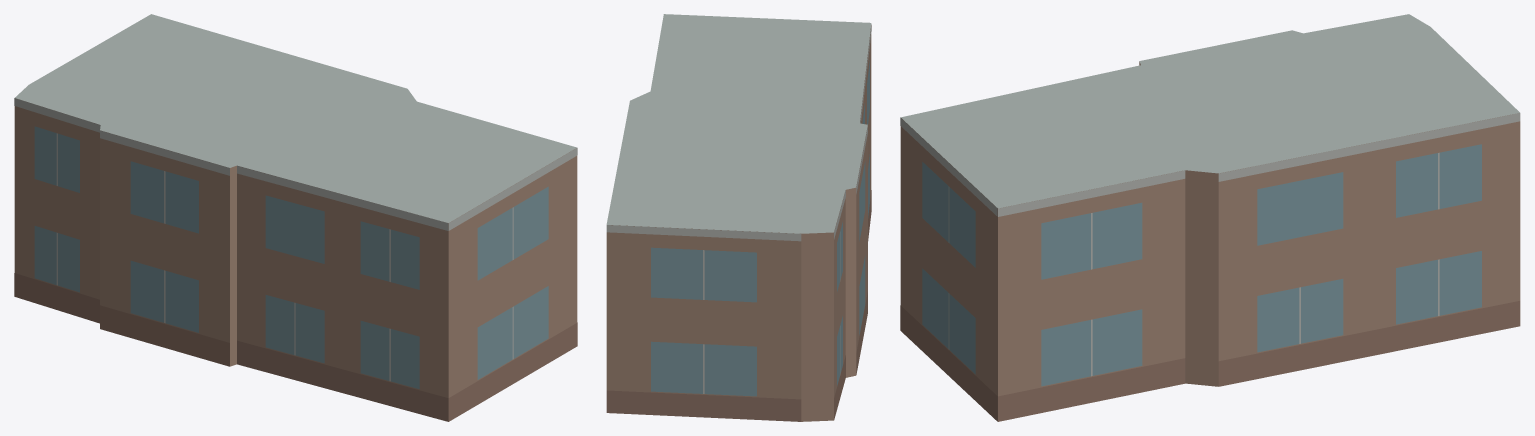
The model's file is survey-upis-32919844.glb.
3 renders of one model, left to right at view 1: azimuth 30°, elevation 25°; view 2: azimuth 150°, elevation 25°; view 3: azimuth 270°, elevation 25°, orthographic. The views are drawn at different scales.
Parts seen in each view (by area): view 1: survey-upis-32919844.tmp; view 2: survey-upis-32919844.tmp; view 3: survey-upis-32919844.tmp.
Boxes of the visible parts, x1,y1,x2,y2 form: survey-upis-32919844.tmp: [14, 14, 577, 421]; survey-upis-32919844.tmp: [606, 14, 871, 421]; survey-upis-32919844.tmp: [900, 14, 1520, 421].
Bounding box in the file's own units: 11.94 × 6.1 × 16.07.
